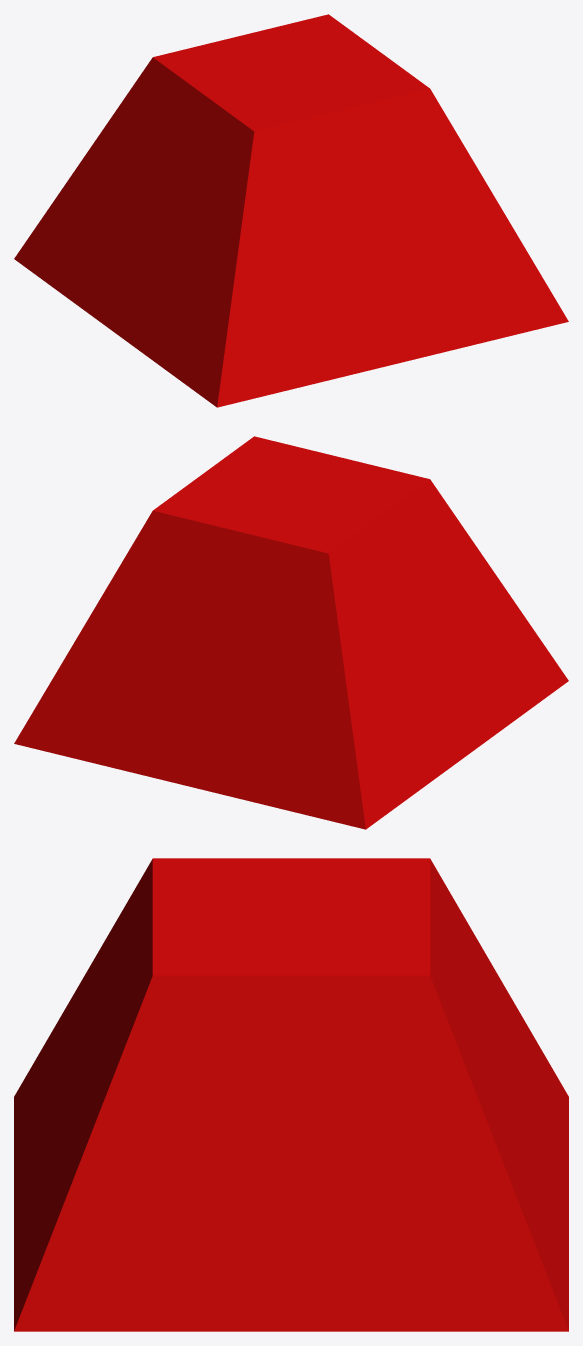
File: button.glb
The picture shows the model from 3 angles, top to bottom: view 1: azimuth 30°, elevation 25°; view 2: azimuth 150°, elevation 25°; view 3: azimuth 270°, elevation 25°; orthographic projection. The views are drawn at different scales.
Parts seen in each view (by area): view 1: Button; view 2: Button; view 3: Button.
Boxes of the visible parts, x1,y1,x2,y2 form: Button: (14, 14, 568, 407); Button: (14, 436, 568, 829); Button: (14, 858, 568, 1331).
Size of the model in its own units: 0.00847 by 0.005 by 0.00847.
